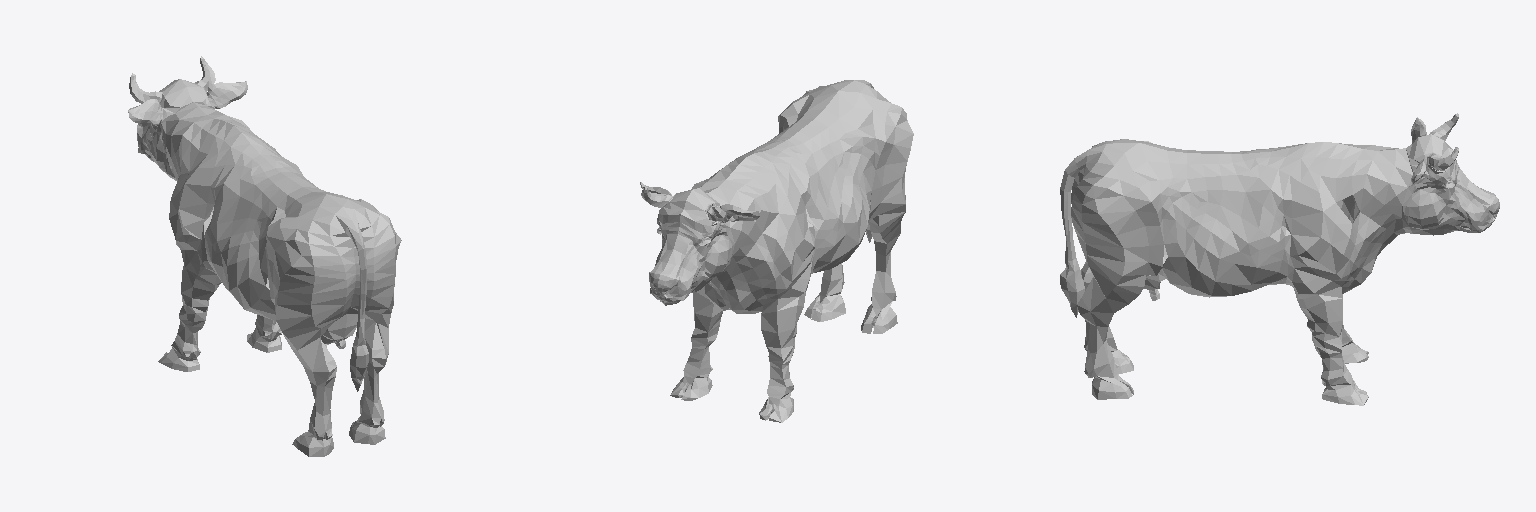
File: asteroid_test.obj
The picture shows the model from 3 angles: view 1: azimuth 30°, elevation 25°; view 2: azimuth 150°, elevation 25°; view 3: azimuth 270°, elevation 25°; orthographic projection.
Visible parts, largest first — view 1: Object.2; view 2: Object.2; view 3: Object.2.
Boxes of the visible parts, <box> form: Object.2: <box>128,56,401,456</box>; Object.2: <box>640,80,913,422</box>; Object.2: <box>1060,113,1499,405</box>.
Size of the model in its own units: 30.73 by 62.2 by 98.36.